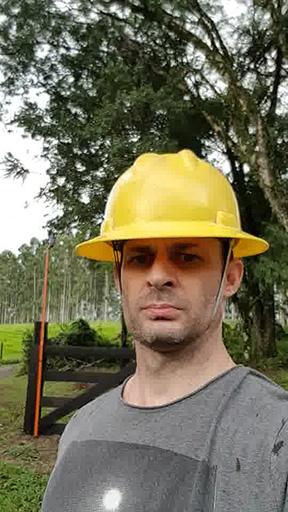Vara_Manobra: (31, 249, 50, 436)
